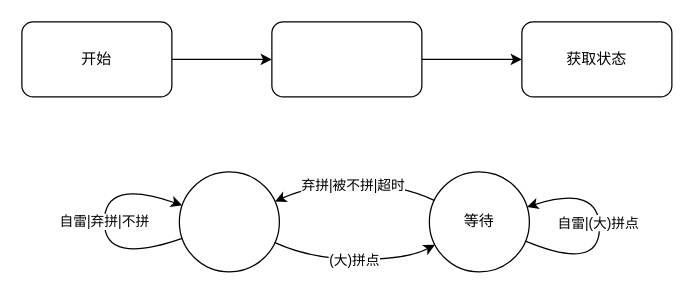
The diagram is 694 pixels wide and 294 high, and some of its shapes have lost their labels. The centre of each missing label's shape, as x and y in pixels:
"查询ID" belongs at point (346, 59).
"空闲" belongs at point (228, 221).
